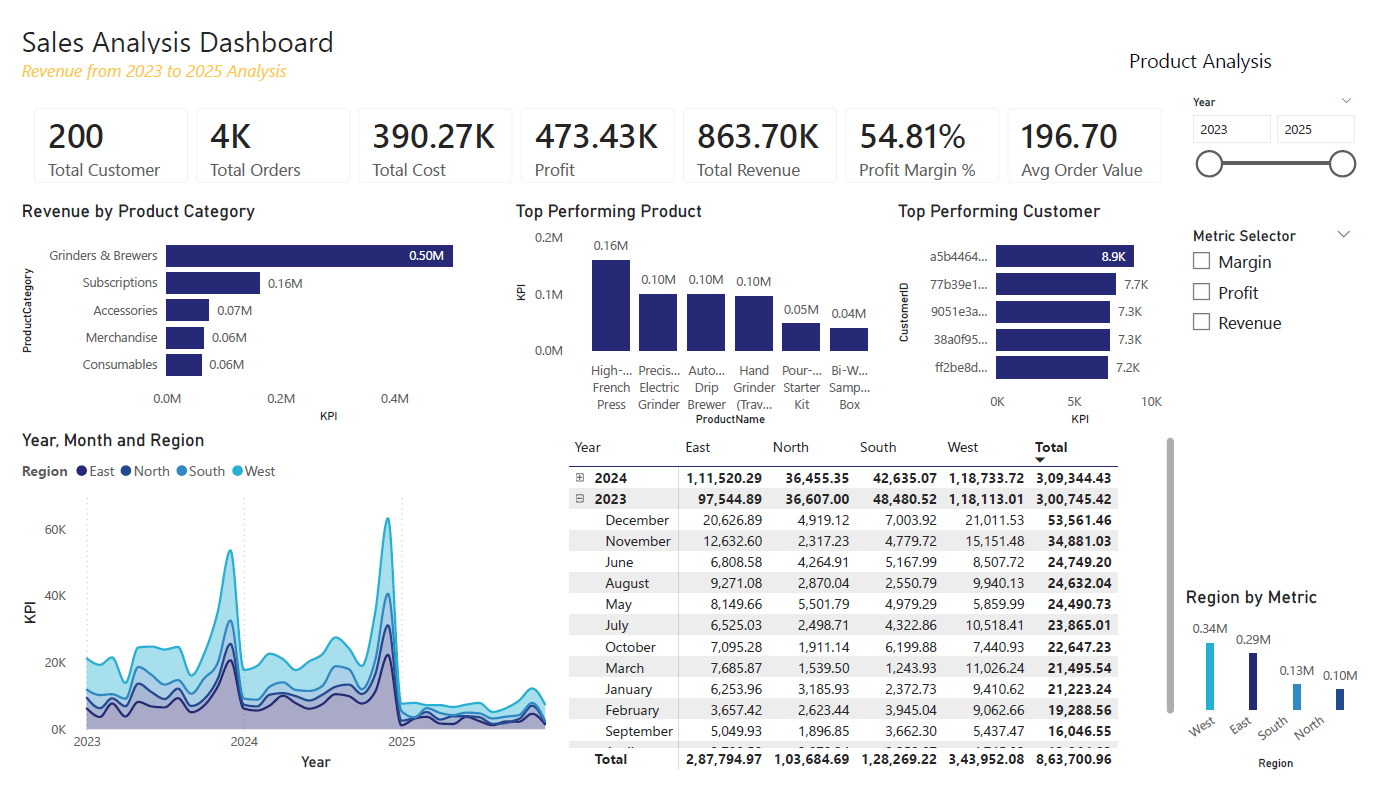

The dashboard page shown, as its layout file describes it:
{"tool":"powerbi","page":{"name":"Dashboard","canvas":[1280,720],"ordinal":0},"visuals":[{"type":"stackedAreaChart","title":"Year, Month and Region","fields":{"Category":["Grid_Analysis.OrderDate.Variation.Date Hierarchy.Year","Grid_Analysis.OrderDate.Variation.Date Hierarchy.Month"],"Series":["Grid_Analysis.Region"],"Y":["Calculations.Selected Metric Value"]},"box":[0,391.8,520,328.4],"z":0},{"type":"clusteredColumnChart","title":"Region by Metric","fields":{"Category":["Grid_Analysis.Region"],"Y":["Calculations.KPI"],"Series":["Grid_Analysis.Region"]},"box":[1104.6,541.1,175.4,179.1],"z":1000},{"type":"pivotTable","fields":{"Columns":["Grid_Analysis.Region"],"Values":["Calculations.Selected Metric Value"],"Rows":["Grid_Analysis.OrderDate.Variation.Date Hierarchy.Year","Grid_Analysis.OrderDate.Variation.Date Hierarchy.Month"]},"box":[520,394.3,584.7,325.9],"z":2000},{"type":"textbox","box":[0,0,1278.6,69.8],"z":3000},{"type":"textbox","box":[0,35.6,336.2,33.1],"z":4000},{"type":"slicer","fields":{"Values":["Grid_Analysis.OrderDate.Variation.Date Hierarchy.Year"]},"box":[1104.3,69.9,175.5,125.2],"z":5000},{"type":"slicer","fields":{"Values":["Metric.Metric Selector"]},"box":[1104.3,195.1,174.2,121.5],"z":6000},{"type":"cardVisual","fields":{"Data":["Calculations.Total Customer","Calculations.Total Orders","Calculations.Total Cost","Calculations.Profit","Calculations.Total Revenue","Calculations.Profit Margin %","Calculations.Avg Order Value"]},"box":[0,69.9,1104.3,105.5],"z":7000},{"type":"clusteredBarChart","fields":{"Category":["Grid_Analysis.ProductCategory"],"Y":["Calculations.KPI"]},"box":[0,175.5,468.7,216],"z":8000},{"type":"clusteredColumnChart","title":"Top Performing Product ","fields":{"Category":["Grid_Analysis.ProductName"],"Y":["Calculations.KPI"]},"box":[468.7,175.5,363.2,218.4],"z":9000},{"type":"clusteredBarChart","title":"Top Performing Customer","fields":{"Category":["Grid_Analysis.CustomerID"],"Y":["Calculations.KPI"]},"box":[831.9,175.5,272.4,218.4],"z":10000},{"type":"actionButton","box":[1027.5,12.4,192.8,57.2],"z":11000}]}

Visuals, with their boxes in screenshot pixels (x1, y1, x2, y2), scaled from the page's 1280x720 canvas onto the 1388x799 screenshot:
"Year, Month and Region" stackedAreaChart: rect(0, 435, 564, 798)
"Region by Metric" clusteredColumnChart: rect(1198, 600, 1387, 798)
pivotTable - Grid_Analysis.Region x Calculations.Selected Metric Value: rect(564, 438, 1198, 798)
textbox: rect(0, 0, 1386, 77)
textbox: rect(0, 40, 365, 76)
slicer - Grid_Analysis.OrderDate.Variation.Date Hierarchy.Year: rect(1197, 78, 1387, 217)
slicer - Metric.Metric Selector: rect(1197, 217, 1386, 351)
cardVisual - Calculations.Total Customer x Calculations.Total Orders: rect(0, 78, 1197, 195)
clusteredBarChart - Grid_Analysis.ProductCategory x Calculations.KPI: rect(0, 195, 508, 434)
"Top Performing Product " clusteredColumnChart: rect(508, 195, 902, 437)
"Top Performing Customer" clusteredBarChart: rect(902, 195, 1197, 437)
actionButton: rect(1114, 14, 1323, 77)
